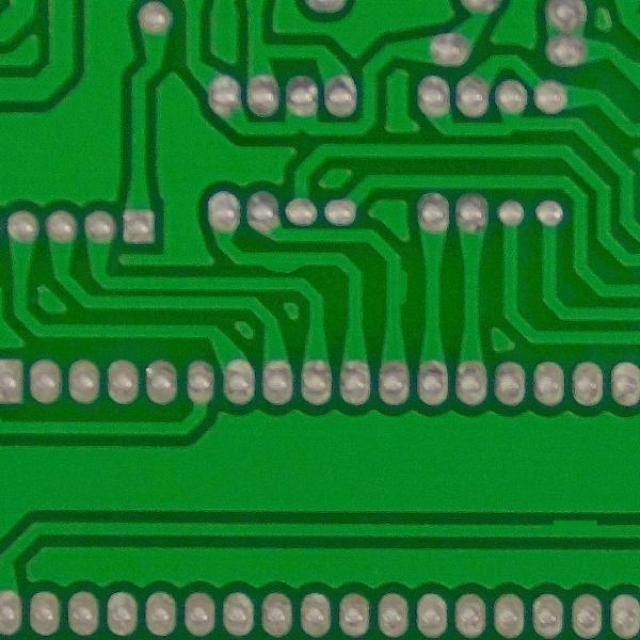spur: (248, 251, 317, 278), (543, 510, 606, 535), (382, 262, 412, 310)
